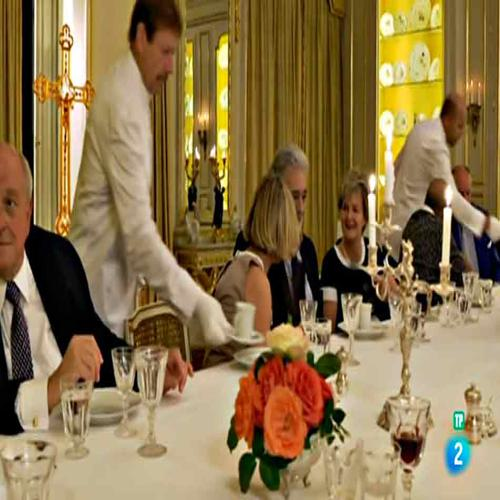copa: (386, 396, 432, 500), (135, 347, 169, 460), (60, 377, 93, 459), (111, 347, 138, 439), (340, 295, 363, 367)
